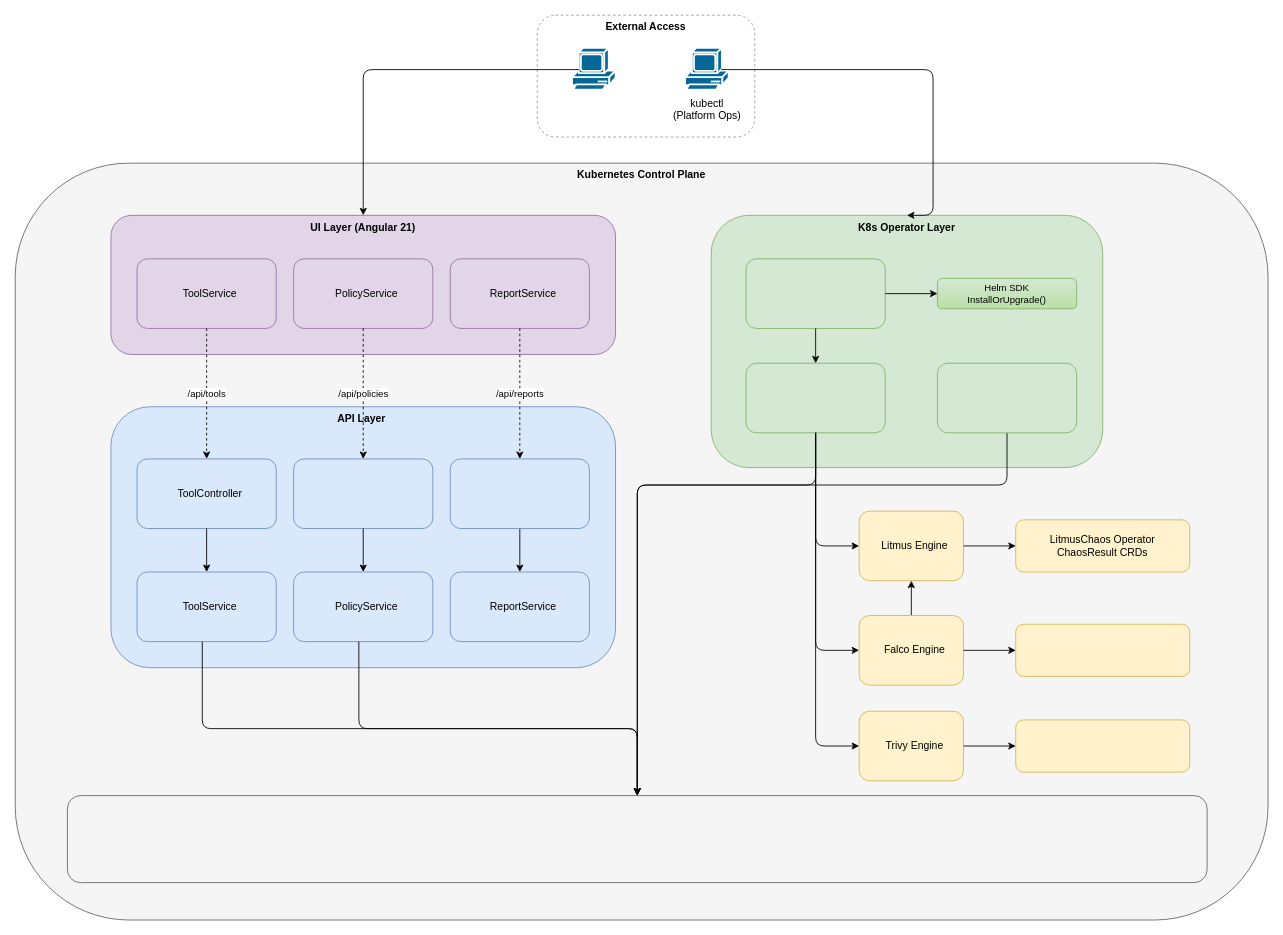
The diagram is 1283 pixels wide and 935 high, and some of its shapes have lost their labels. The centre of each missing label's shape, as x and y in pixels:
"Browser (Security Engineer)" belongs at point (593, 69).
"Falco DaemonSet runtime syscall monitoring" belongs at point (1102, 649).
"K8s API Server (CRDs, Jobs, ConfigMaps)" belongs at point (637, 839).
"PolicyController" belongs at point (363, 493).
"PolicyReconciler" belongs at point (815, 397).
"PolicyReportReconciler" belongs at point (1007, 397).
"ReportController" belongs at point (519, 493).
"ToolReconciler" belongs at point (815, 293).
"trivy-operator VulnerabilityReport CRDs" belongs at point (1102, 745).
